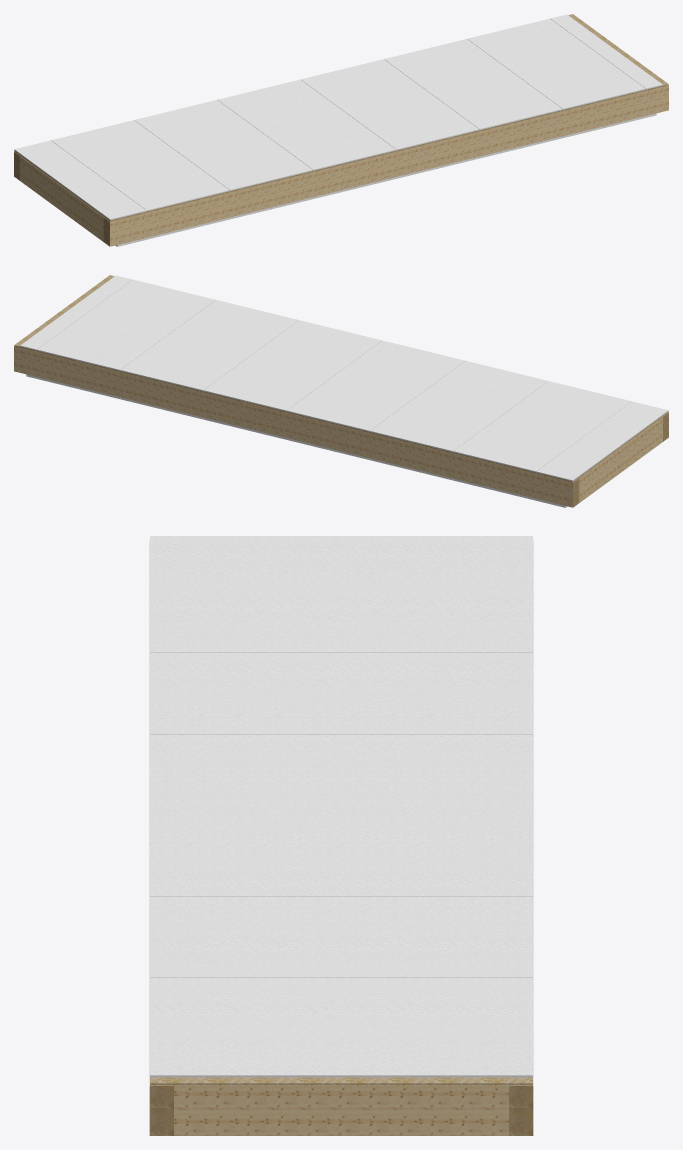
The model's file is forjado-panel.glb.
3 renders of one model, top to bottom at view 1: azimuth 30°, elevation 25°; view 2: azimuth 150°, elevation 25°; view 3: azimuth 270°, elevation 25°, orthographic. The views are drawn at different scales.
Parts seen in each view (by area): view 1: Correa_4, P - Yeso Fibra_4, P - Yeso Fibra_5, P - Yeso Fibra_2, P - Yeso Fibra_8, P - Yeso Fibra_1, P - Yeso Fibra_6, P - Yeso Fibra_0, Durmiente_0, P - Yeso Fibra_3, P - OSB_4; view 2: Correa_3, P - Yeso Fibra_4, P - Yeso Fibra_5, P - Yeso Fibra_2, P - Yeso Fibra_8, P - Yeso Fibra_1, P - Yeso Fibra_6, P - Yeso Fibra_0, Durmiente_0, P - Yeso Fibra_3, P - OSB_4; view 3: P - Yeso Fibra_1, P - Yeso Fibra_2, P - Yeso Fibra_4, P - Yeso Fibra_6, P - Yeso Fibra_8, P - Yeso Fibra_5, Testero_0, P - Yeso Fibra_0, P - Yeso Fibra_3, P - OSB_4, Correa_3, Correa_4.
Part boxes in pixels (x1=…): Correa_4: x1=103, y1=85, x2=668, y2=246; P - Yeso Fibra_4: x1=134, y1=100, x2=312, y2=190; P - Yeso Fibra_5: x1=467, y1=18, x2=645, y2=109; P - Yeso Fibra_2: x1=217, y1=79, x2=396, y2=170; P - Yeso Fibra_8: x1=384, y1=39, x2=562, y2=129; P - Yeso Fibra_1: x1=301, y1=59, x2=479, y2=150; P - Yeso Fibra_6: x1=51, y1=120, x2=229, y2=211; P - Yeso Fibra_0: x1=14, y1=140, x2=146, y2=220; Durmiente_0: x1=20, y1=156, x2=103, y2=241; P - Yeso Fibra_3: x1=550, y1=14, x2=662, y2=89; P - OSB_4: x1=568, y1=14, x2=668, y2=100; Correa_3: x1=14, y1=346, x2=579, y2=507; P - Yeso Fibra_4: x1=370, y1=361, x2=548, y2=451; P - Yeso Fibra_5: x1=37, y1=279, x2=215, y2=370; P - Yeso Fibra_2: x1=286, y1=340, x2=465, y2=431; P - Yeso Fibra_8: x1=120, y1=300, x2=298, y2=390; P - Yeso Fibra_1: x1=203, y1=320, x2=381, y2=411; P - Yeso Fibra_6: x1=453, y1=381, x2=631, y2=472; P - Yeso Fibra_0: x1=536, y1=401, x2=668, y2=481; Durmiente_0: x1=579, y1=417, x2=662, y2=502; P - Yeso Fibra_3: x1=20, y1=275, x2=132, y2=350; P - OSB_4: x1=14, y1=275, x2=114, y2=361; P - Yeso Fibra_1: x1=150, y1=815, x2=532, y2=896; P - Yeso Fibra_2: x1=150, y1=734, x2=532, y2=815; P - Yeso Fibra_4: x1=150, y1=653, x2=532, y2=734; P - Yeso Fibra_6: x1=150, y1=571, x2=532, y2=652; P - Yeso Fibra_8: x1=150, y1=896, x2=532, y2=977; P - Yeso Fibra_5: x1=150, y1=978, x2=532, y2=1058; Testero_0: x1=174, y1=1085, x2=508, y2=1135; P - Yeso Fibra_0: x1=150, y1=536, x2=532, y2=571; P - Yeso Fibra_3: x1=150, y1=1059, x2=532, y2=1077; P - OSB_4: x1=150, y1=1077, x2=532, y2=1085; Correa_3: x1=509, y1=540, x2=533, y2=1135; Correa_4: x1=149, y1=540, x2=173, y2=1135.
Size of the model in its own units: 8.42 by 0.423 by 2.5.
Materials: 6 (6 with a texture image).
